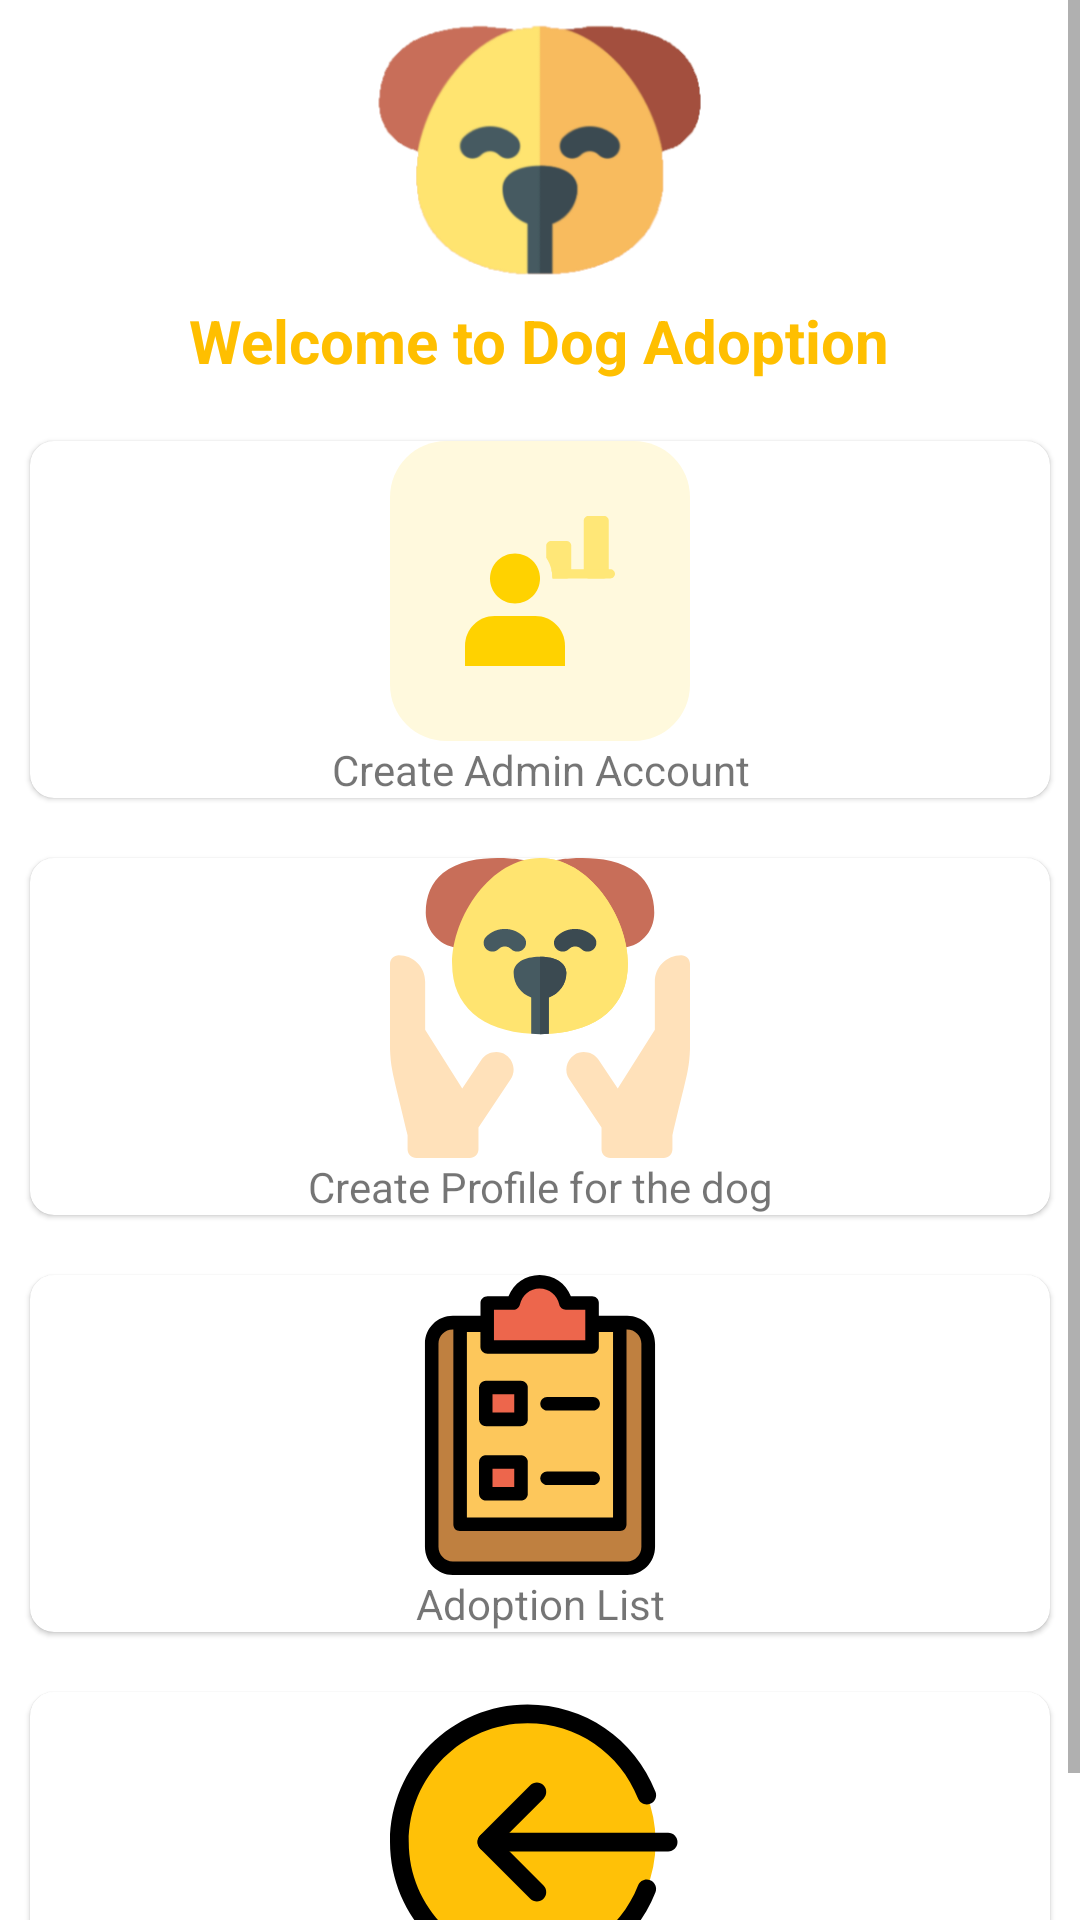

Named icons in this screenshot (1080*1920) and their bounding boxes, (x1, y1, x2, y2):
clipboard: (425, 1275, 655, 1575)
